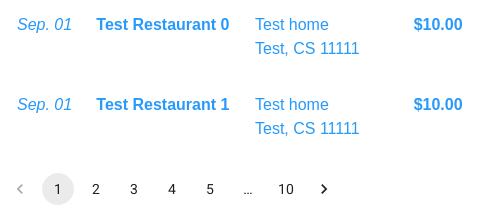
Test: Order History › change orders page
expect the button "3" is shown: met, box [118,173,150,205]
Click the button "2". click: (96, 189)
box: [80,173,112,205]
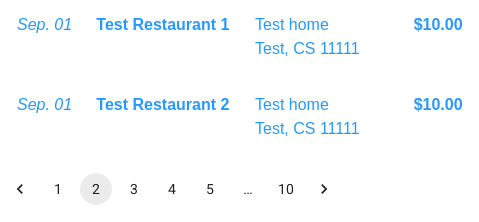
expect the text "Test Restaurant 1" is shown: met, box [96,16,229,33]
expect the text "Test Restaurant 2" is shown: met, box [96,96,229,113]
Click the button "3". click: (134, 189)
box: [118,173,150,205]
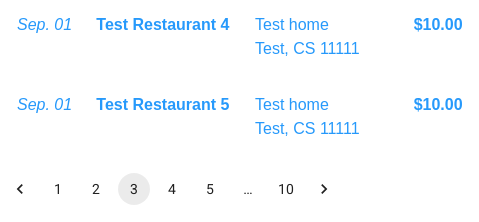
expect the text "Test Restaurant 4" is shown: met, box [96,16,229,33]
expect the text "Test Restaurant 5" is shown: met, box [96,96,229,113]
